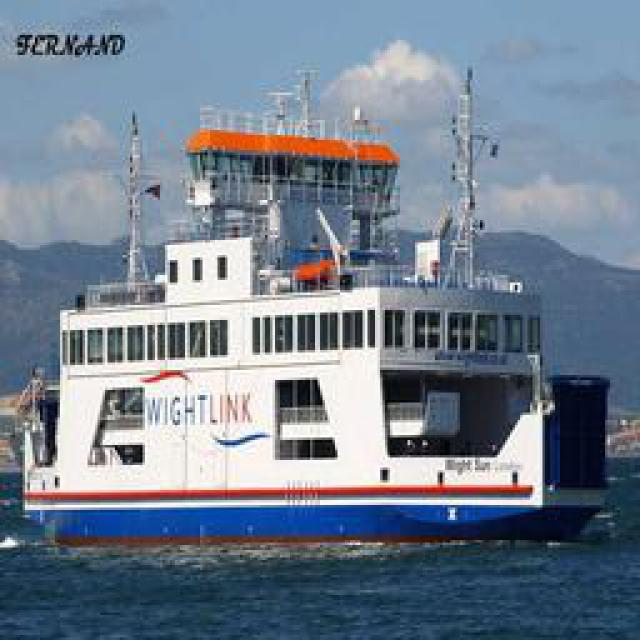Ship: (41, 47, 604, 555)
